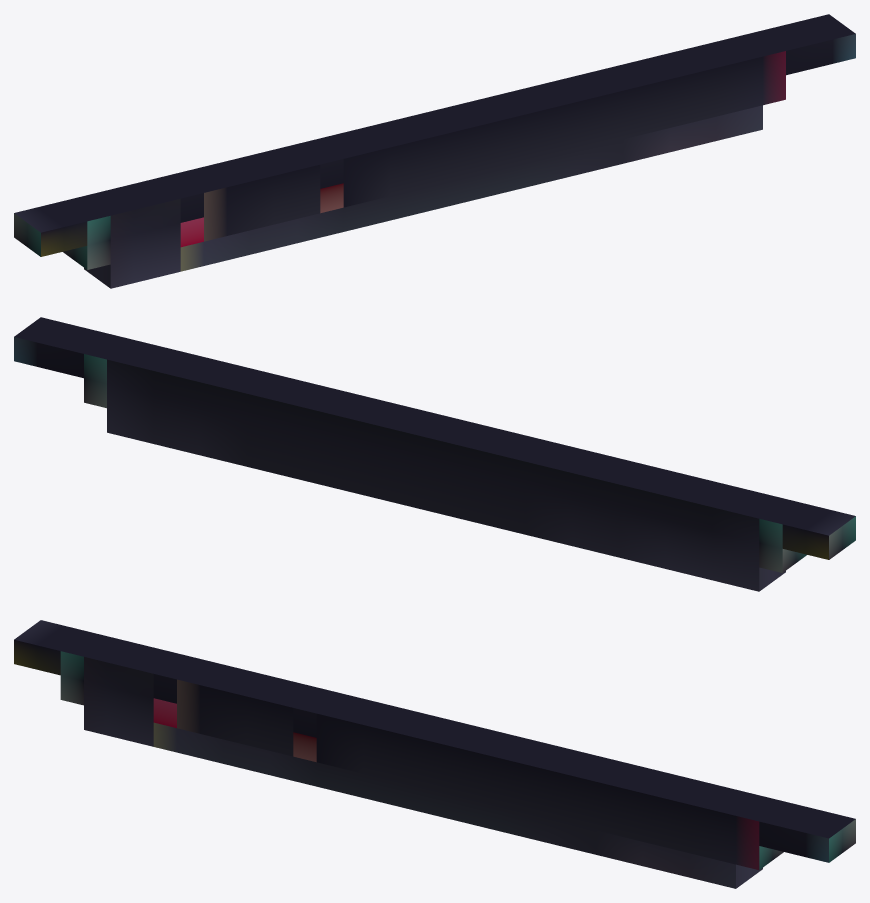
Rendered from Electronics_Stick_C_00.fbx.
3 views of the same model, one above another, from view 1: azimuth 30°, elevation 25°; view 2: azimuth 150°, elevation 25°; view 3: azimuth 330°, elevation 25° (orthographic).
Visible parts, largest first — view 1: Electronics_Stick_C_00; view 2: Electronics_Stick_C_00; view 3: Electronics_Stick_C_00.
Part boxes in pixels (x1=…): Electronics_Stick_C_00: x1=14, y1=14, x2=855, y2=288; Electronics_Stick_C_00: x1=14, y1=317, x2=855, y2=591; Electronics_Stick_C_00: x1=14, y1=620, x2=855, y2=888.
Size of the model in its own units: 175 by 15 by 10.
